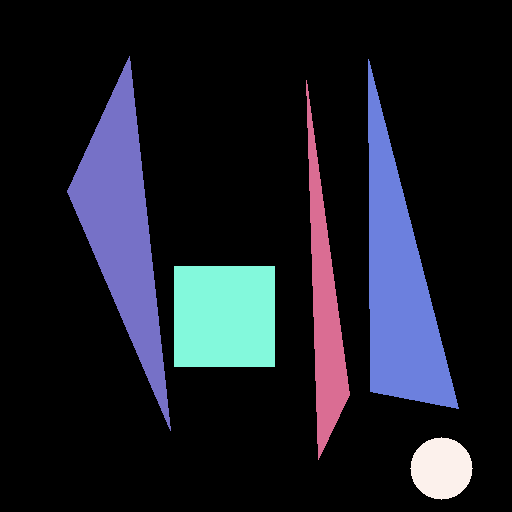circle: (410, 437, 472, 499)
square: (174, 266, 274, 366)
triangle: (67, 56, 170, 430), (368, 59, 458, 408), (306, 80, 349, 459)
